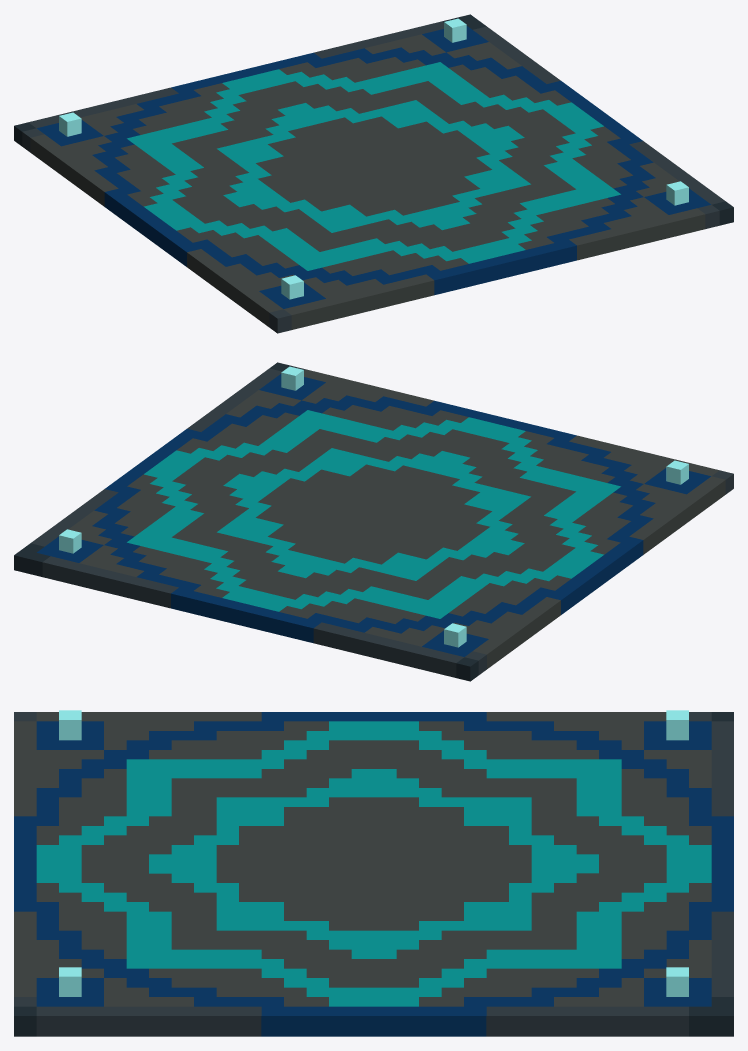
Rendered from Tilemap_SpawnPoint.obj.
The picture shows the model from 3 angles, top to bottom: view 1: azimuth 30°, elevation 25°; view 2: azimuth 150°, elevation 25°; view 3: azimuth 270°, elevation 25°; orthographic projection. The views are drawn at different scales.
Bounding box in the file's own units: 3.2 × 0.2 × 3.2.
1 material, 1 textured.
